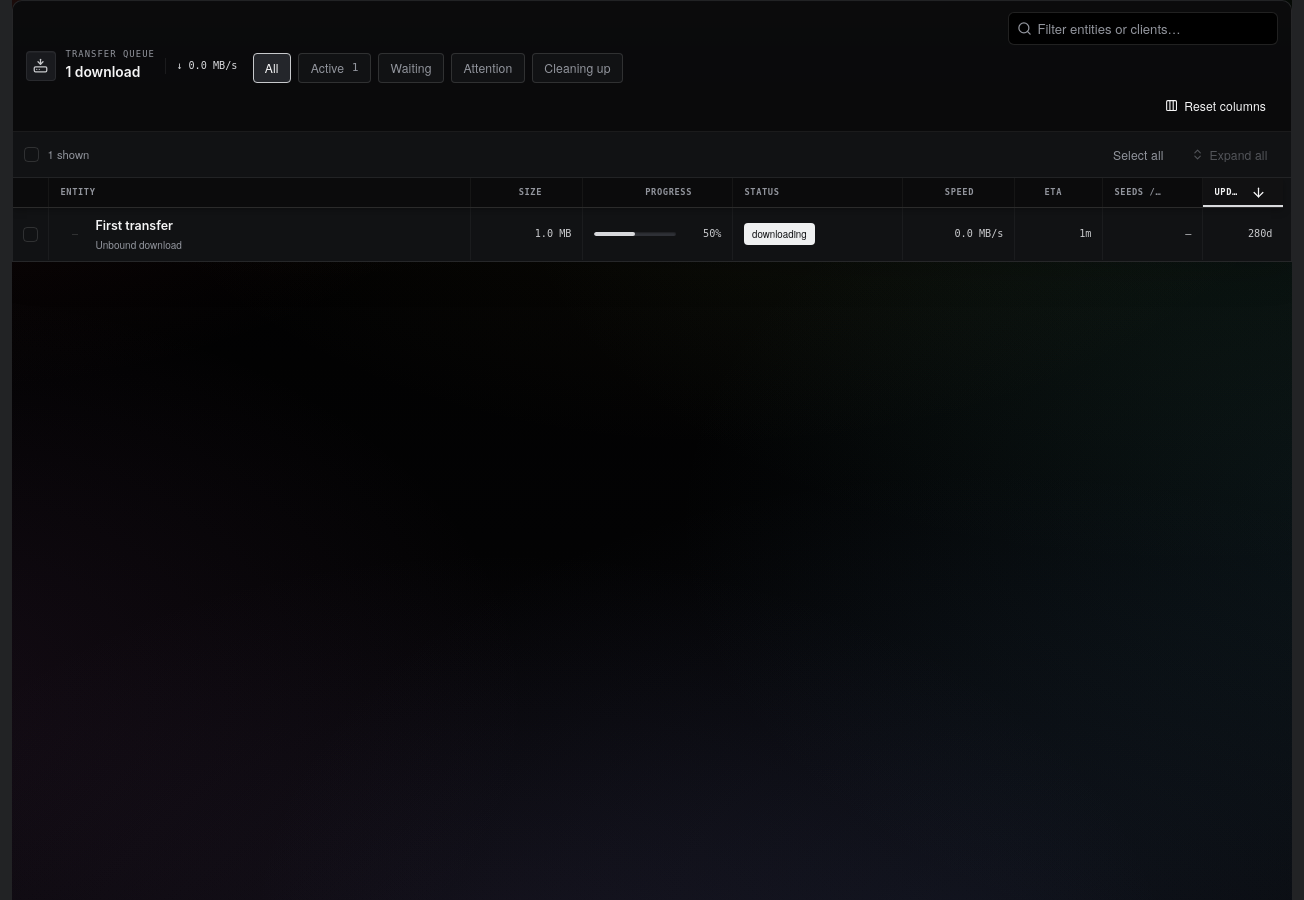
Scenario: DownloadManagerTable › keeps transfer metrics and selection available in the adaptive rows
The image size is (1304, 900).
Check: the text "50%" is shown, box [703,228,722,239]
Click the checkbox named "Select First transfer" at (30, 234), box [23,227,38,242]
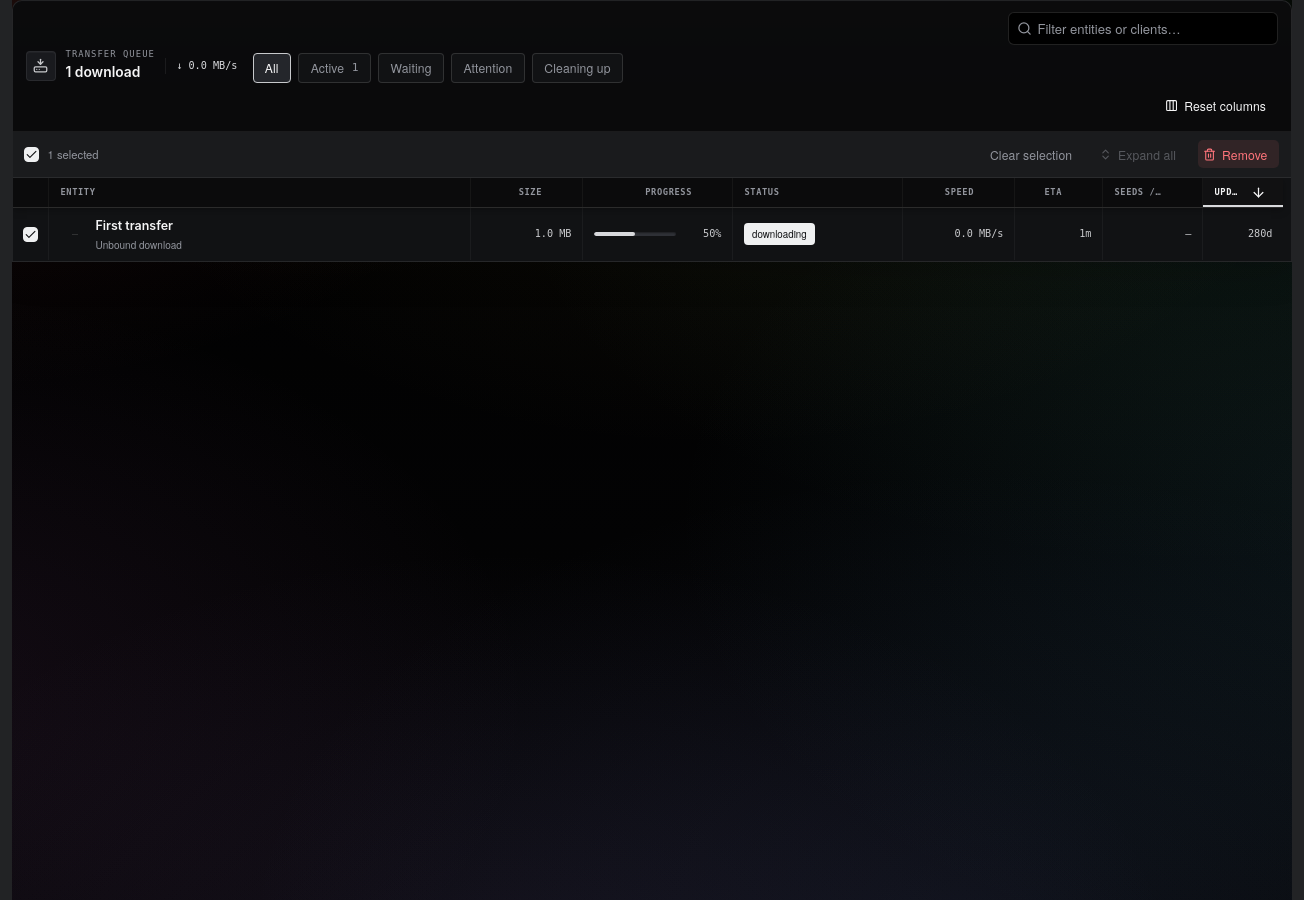
Check: the text "1 selected" is shown, box [48,146,99,163]
Check: the button "Remove" is enabled, box [1197,139,1280,169]
